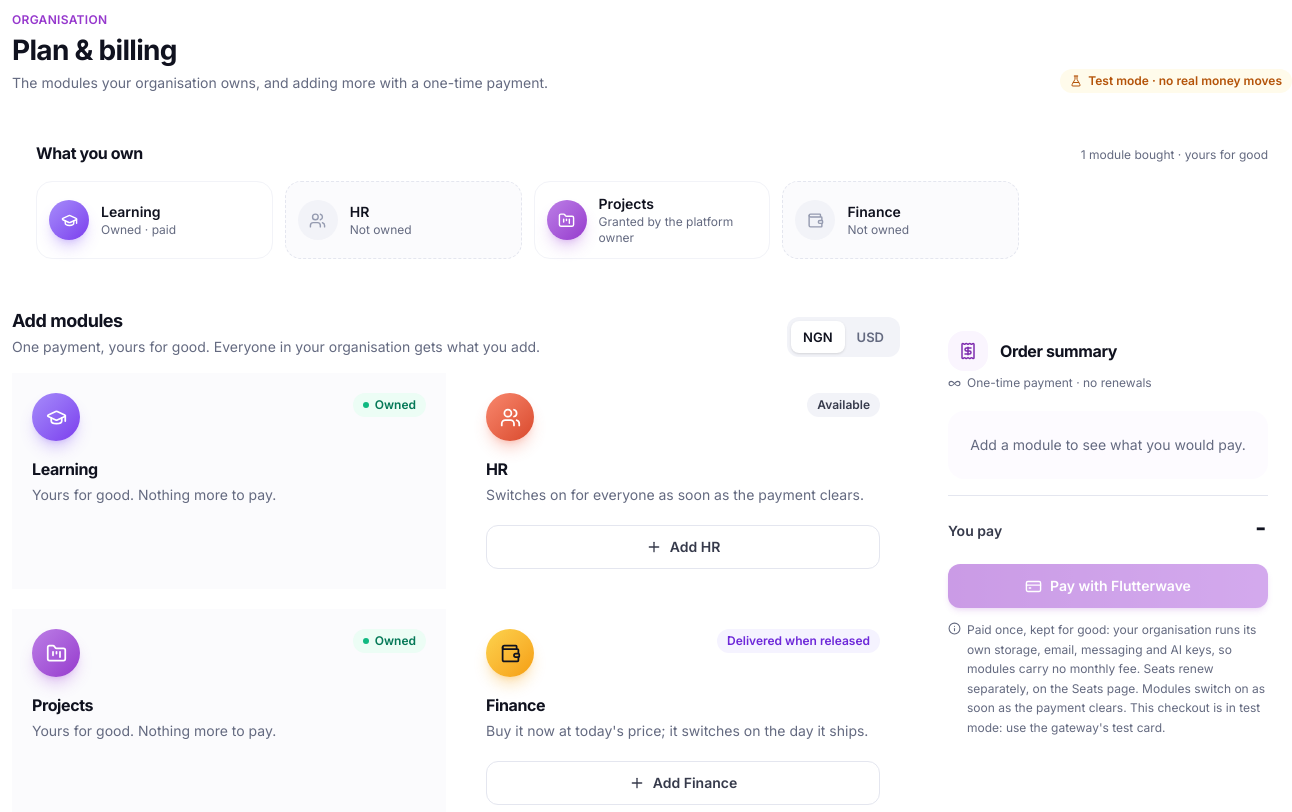
Plan & billing (one-time) › charges only the difference over what was already bought
Step 1. Click the checkbox labelled "Add HR" → [683, 547], box [486,525,880,569]
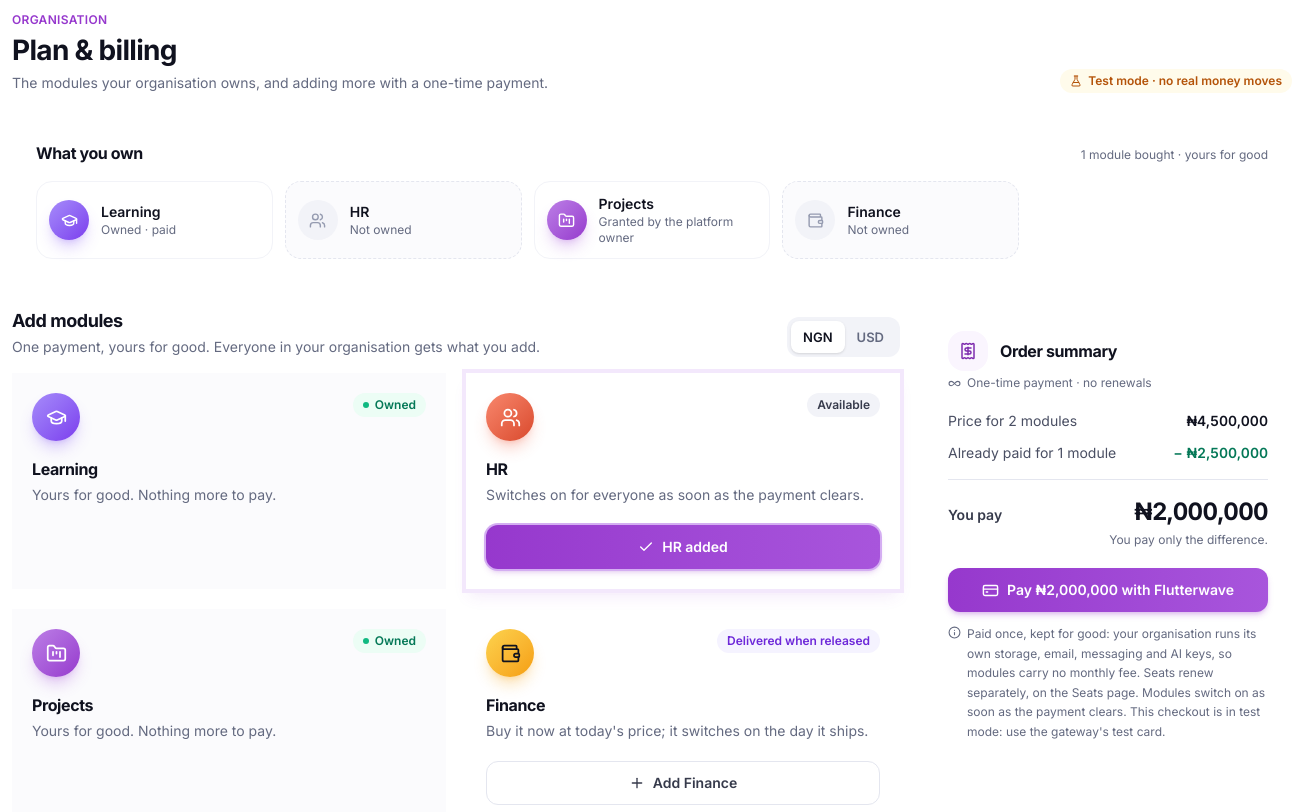
Check: the element "Order summary" shows "Price for 2 modules", box [924,307,1291,765]
Check: the element "Order summary" shows "₦4,500,000", box [1186,412,1268,429]
Check: the element "Order summary" shows "Already paid for 1 module", box [948,444,1116,461]
